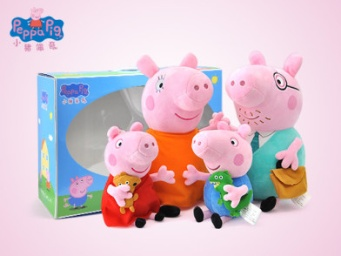Peppa: (102, 124, 160, 230)
